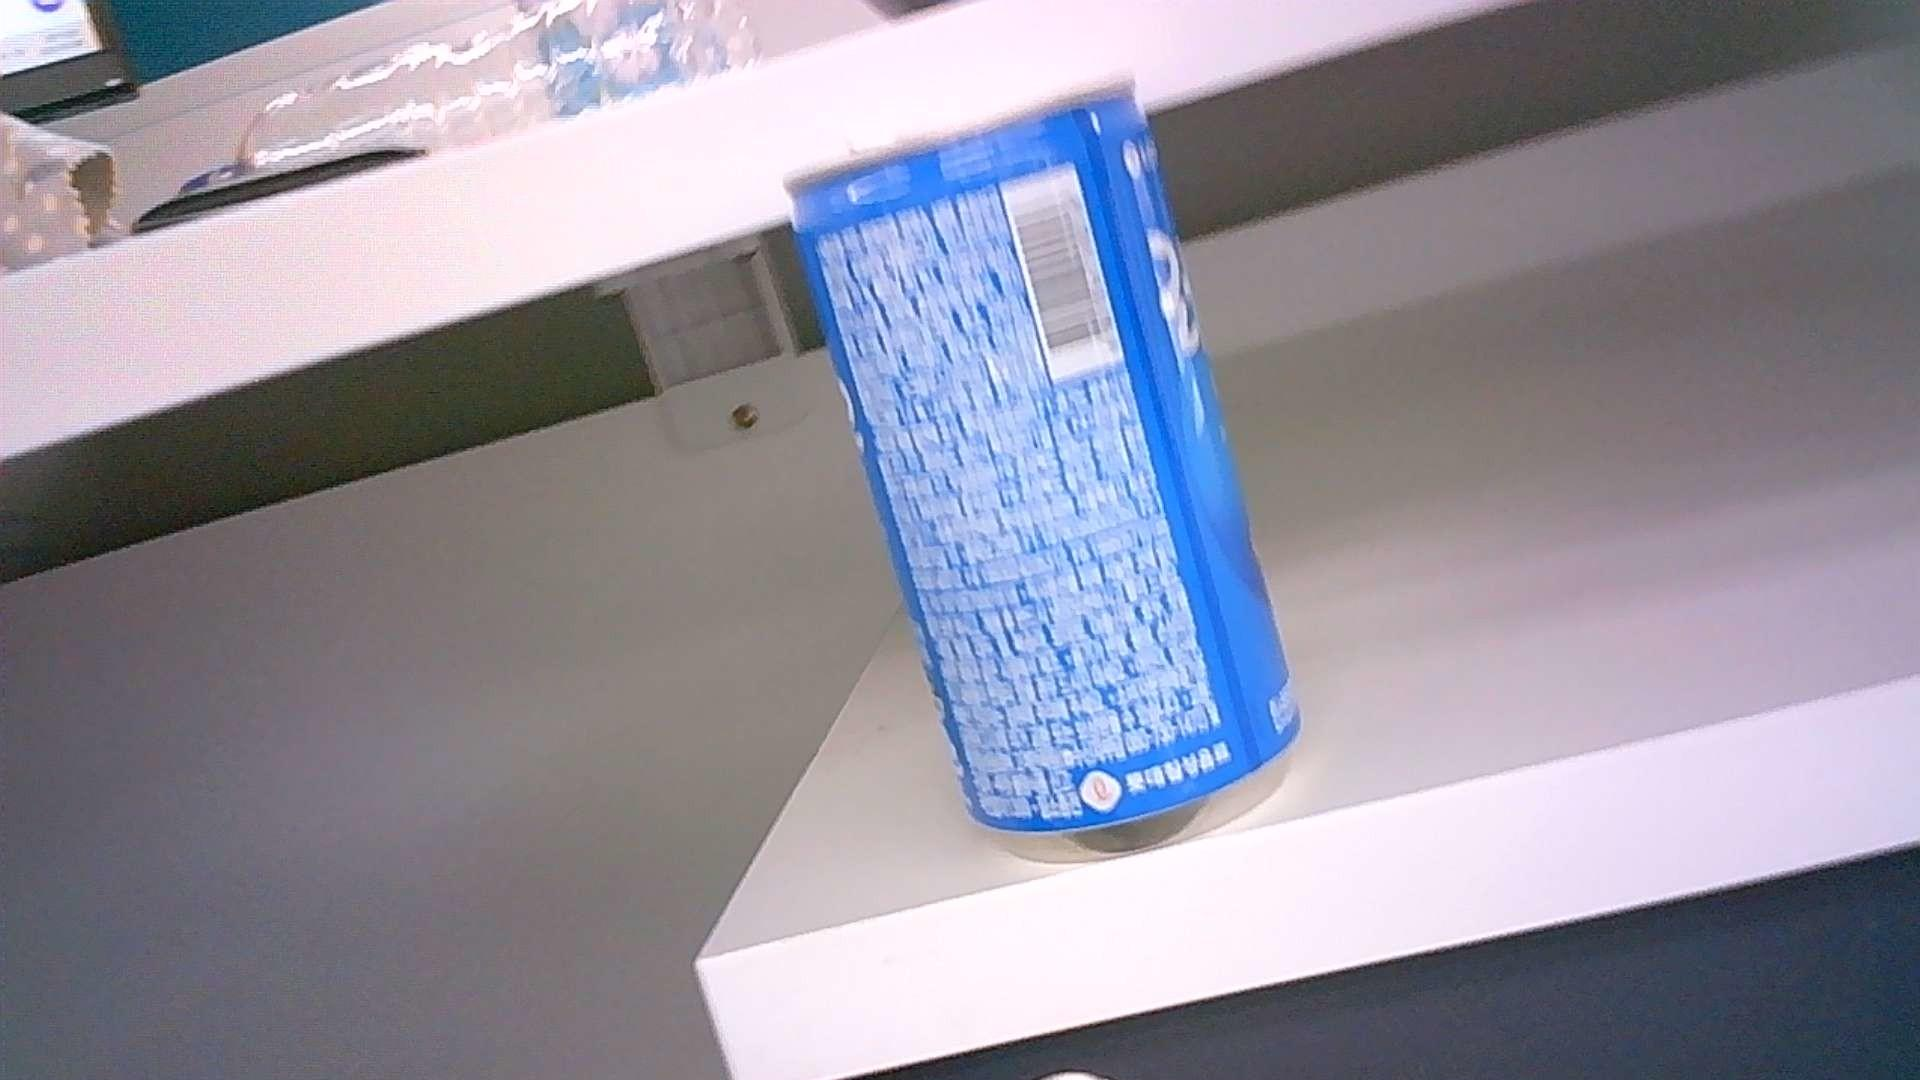letsbe: (785, 74, 1303, 833)
